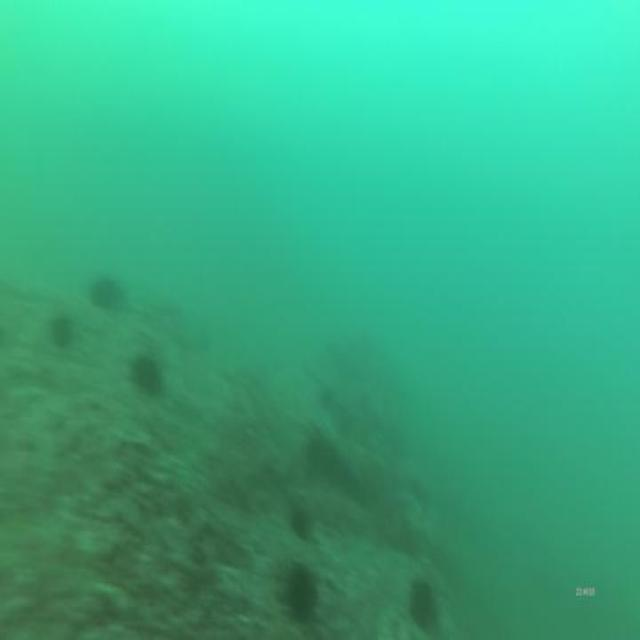echinus: (274, 554, 324, 630), (408, 567, 436, 632), (128, 348, 164, 397), (85, 269, 122, 313), (48, 308, 74, 354), (288, 496, 312, 542)
